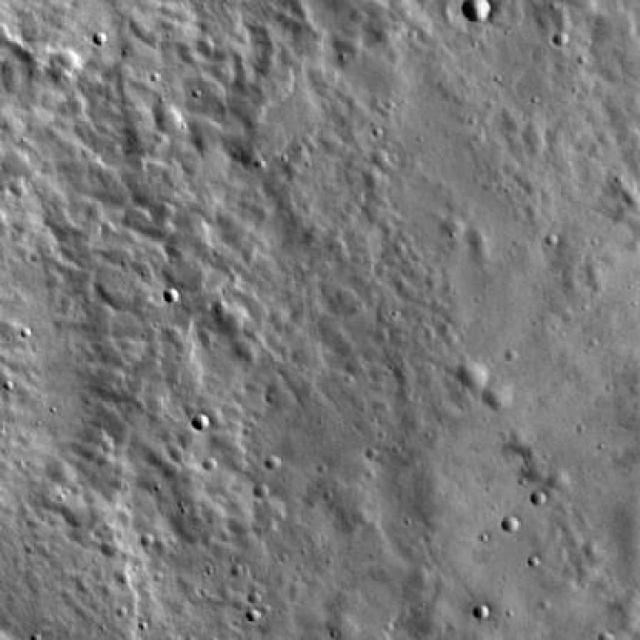crater: (461, 353, 496, 385), (50, 42, 85, 72), (214, 294, 248, 324), (154, 96, 188, 124), (268, 370, 300, 399), (491, 378, 520, 404), (180, 140, 209, 166), (525, 119, 553, 143), (236, 332, 259, 354), (553, 463, 575, 483), (469, 0, 496, 15), (502, 515, 521, 531), (187, 415, 204, 431), (528, 491, 544, 507)
